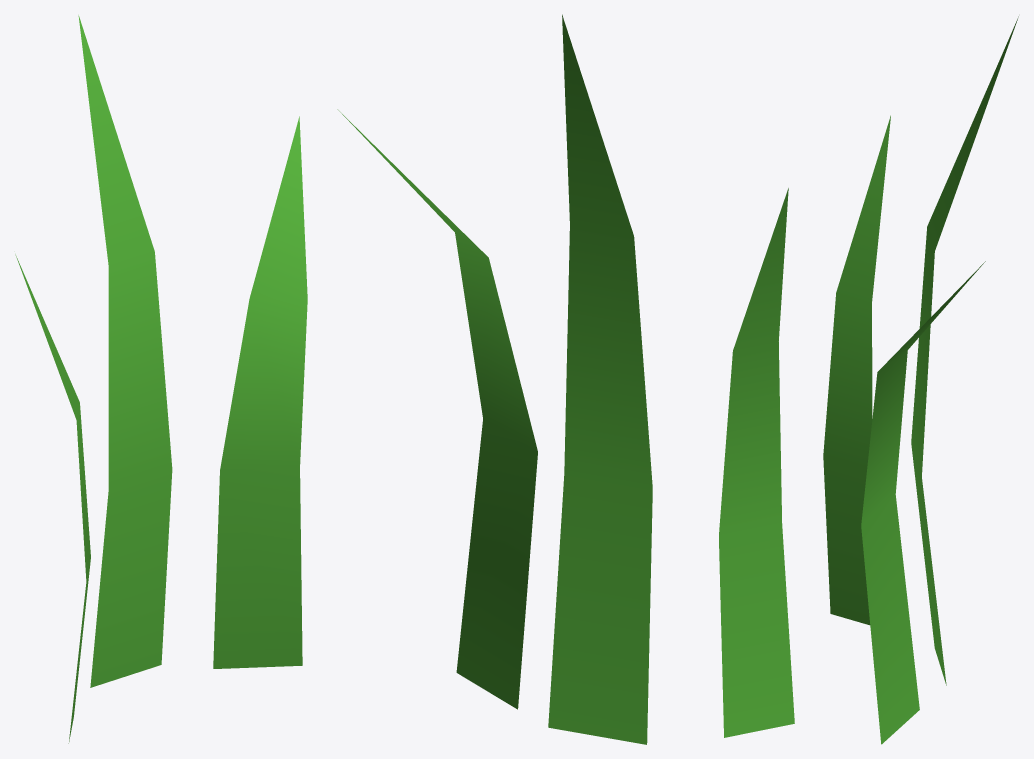
Rendered from Grass_16.fbx.
3 views of the same model, side by side, from view 1: azimuth 30°, elevation 25°; view 2: azimuth 150°, elevation 25°; view 3: azimuth 270°, elevation 25° (orthographic). The views are drawn at different scales.
Parts seen in each view (by area): view 1: Grass_16; view 2: Grass_16; view 3: Grass_16.
Boxes of the visible parts, box(x1,y1,x2,y2) form: Grass_16: box(15, 15, 307, 743); Grass_16: box(337, 14, 794, 744); Grass_16: box(823, 16, 1018, 744).
Size of the model in its own units: 66.06 by 122 by 33.13.
